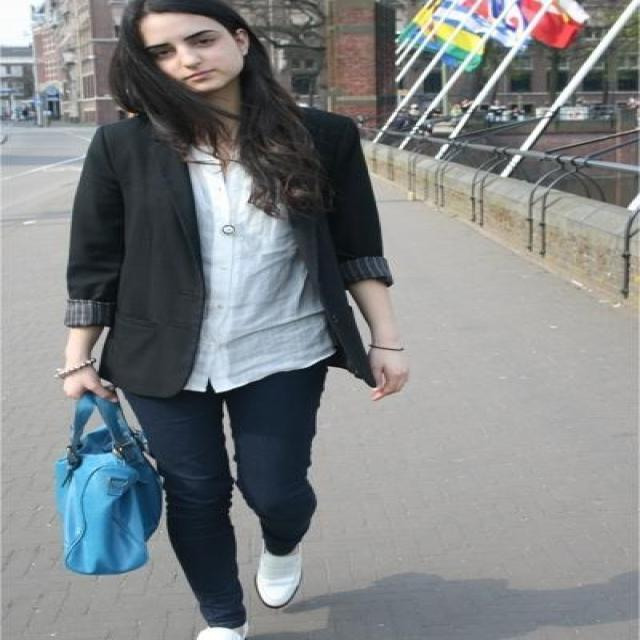bag: (53, 389, 173, 575)
jacket: (64, 110, 392, 411)
pants: (134, 346, 346, 626)
shirt: (186, 150, 334, 392)
shoe: (197, 555, 299, 639)
